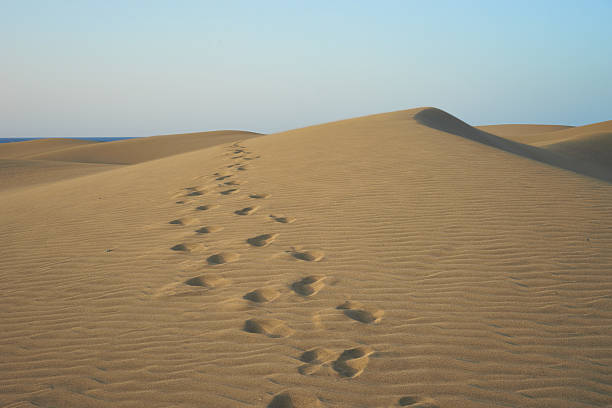human_foot_print: (344, 339, 374, 381), (393, 382, 433, 408), (337, 301, 383, 323), (307, 346, 341, 374), (266, 392, 325, 408), (244, 318, 293, 337), (294, 244, 327, 270), (291, 275, 325, 296), (252, 192, 286, 213), (246, 288, 280, 305), (215, 244, 238, 268), (166, 240, 194, 258), (195, 274, 222, 290), (246, 233, 278, 246), (189, 184, 205, 208), (274, 211, 300, 225), (229, 182, 244, 204), (176, 214, 190, 230), (235, 206, 259, 215), (203, 225, 216, 234), (207, 207, 222, 214)
